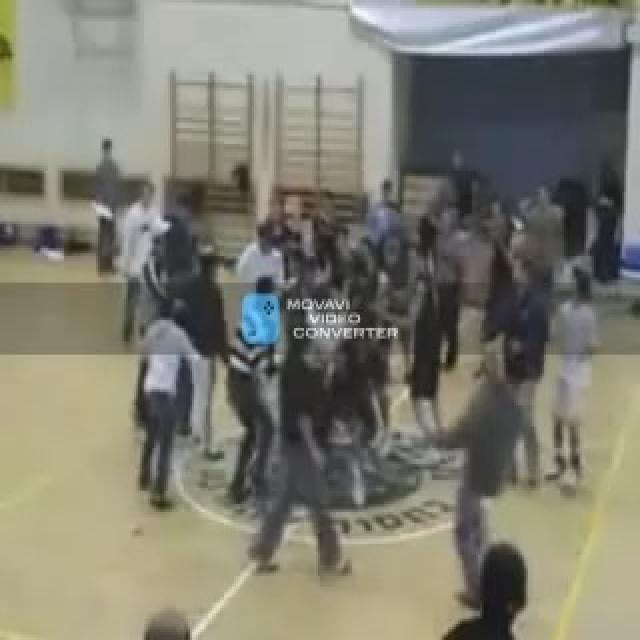non-voilence: (106, 160, 616, 635)
